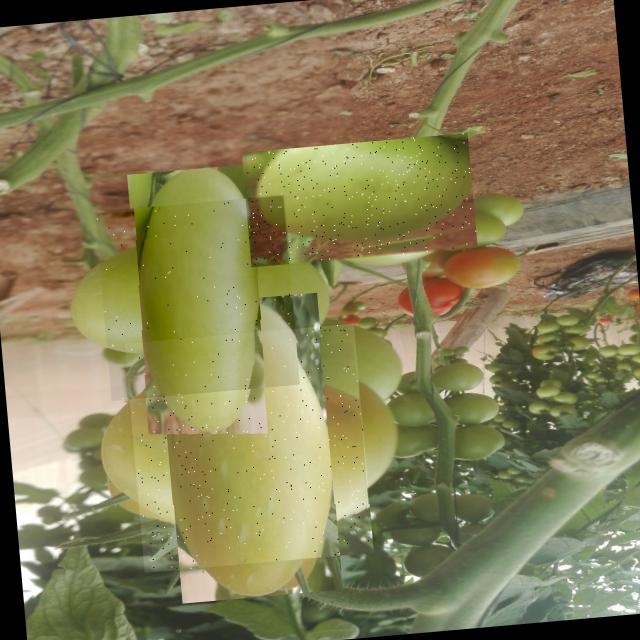Unripe Tomato: (124, 323, 373, 572), (94, 194, 300, 400), (241, 132, 477, 266)
